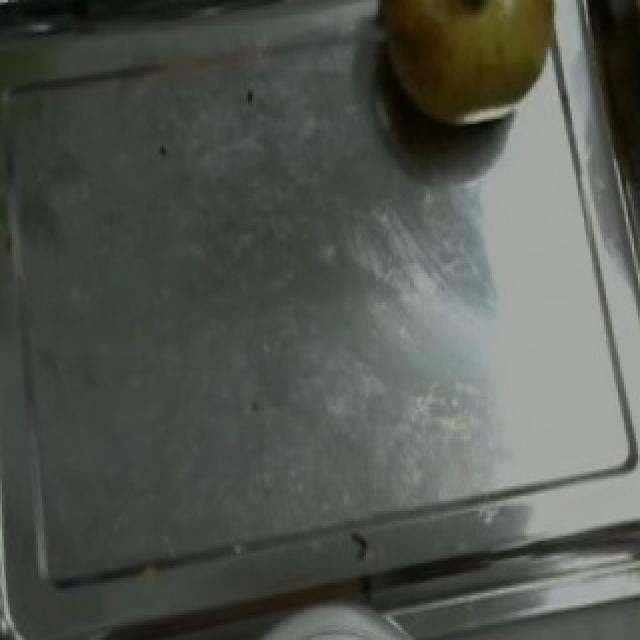fruit: (366, 2, 578, 149)
